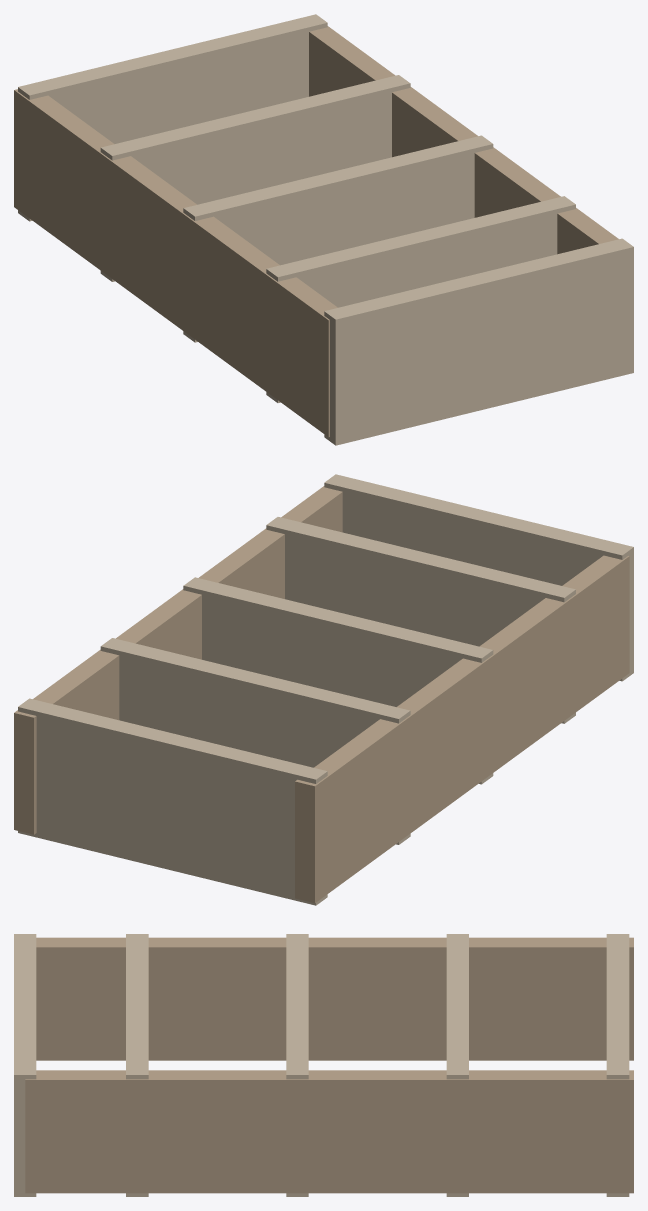
File: bookshelf.glb
3 renders of one model, top to bottom at view 1: azimuth 30°, elevation 25°; view 2: azimuth 150°, elevation 25°; view 3: azimuth 270°, elevation 25°, orthographic. The views are drawn at different scales.
Visible parts, largest first — view 1: side_-0.49, shelf_4, shelf_2, shelf_1, shelf_0, shelf_3, side_0.49; view 2: side_-0.49, shelf_0, shelf_1, shelf_2, shelf_3, shelf_4, side_0.49; view 3: side_0.49, side_-0.49, shelf_4, shelf_0, shelf_2, shelf_3, shelf_1.
Boxes of the visible parts, x1,y1,x2,y2 form: side_-0.49: (14, 89, 337, 437); shelf_4: (324, 238, 633, 445); shelf_2: (183, 135, 493, 342); shelf_1: (100, 75, 410, 281); shelf_0: (18, 14, 327, 221); shelf_3: (266, 196, 575, 402); side_0.49: (309, 26, 618, 254); side_-0.49: (295, 555, 629, 903); shelf_0: (18, 698, 327, 905); shelf_1: (100, 638, 410, 844); shelf_2: (183, 577, 493, 784); shelf_3: (266, 517, 575, 723); shelf_4: (324, 474, 633, 681); side_0.49: (14, 486, 342, 834); side_0.49: (25, 1070, 633, 1193); side_-0.49: (36, 937, 633, 1060); shelf_4: (14, 934, 36, 1196); shelf_0: (606, 934, 629, 1196); shelf_2: (286, 934, 308, 1196); shelf_3: (126, 934, 148, 1196); shelf_1: (446, 934, 468, 1196).
Bounding box in the file's own units: 1.05 × 0.42 × 1.93.
